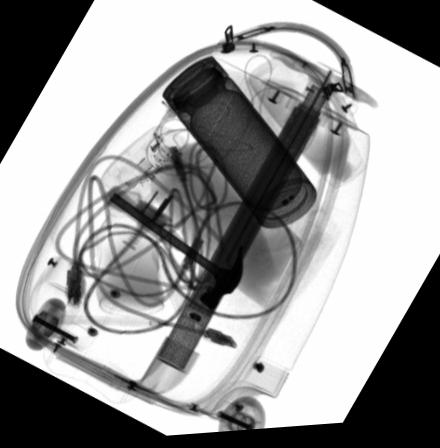Hammer: (101, 187, 243, 312)
